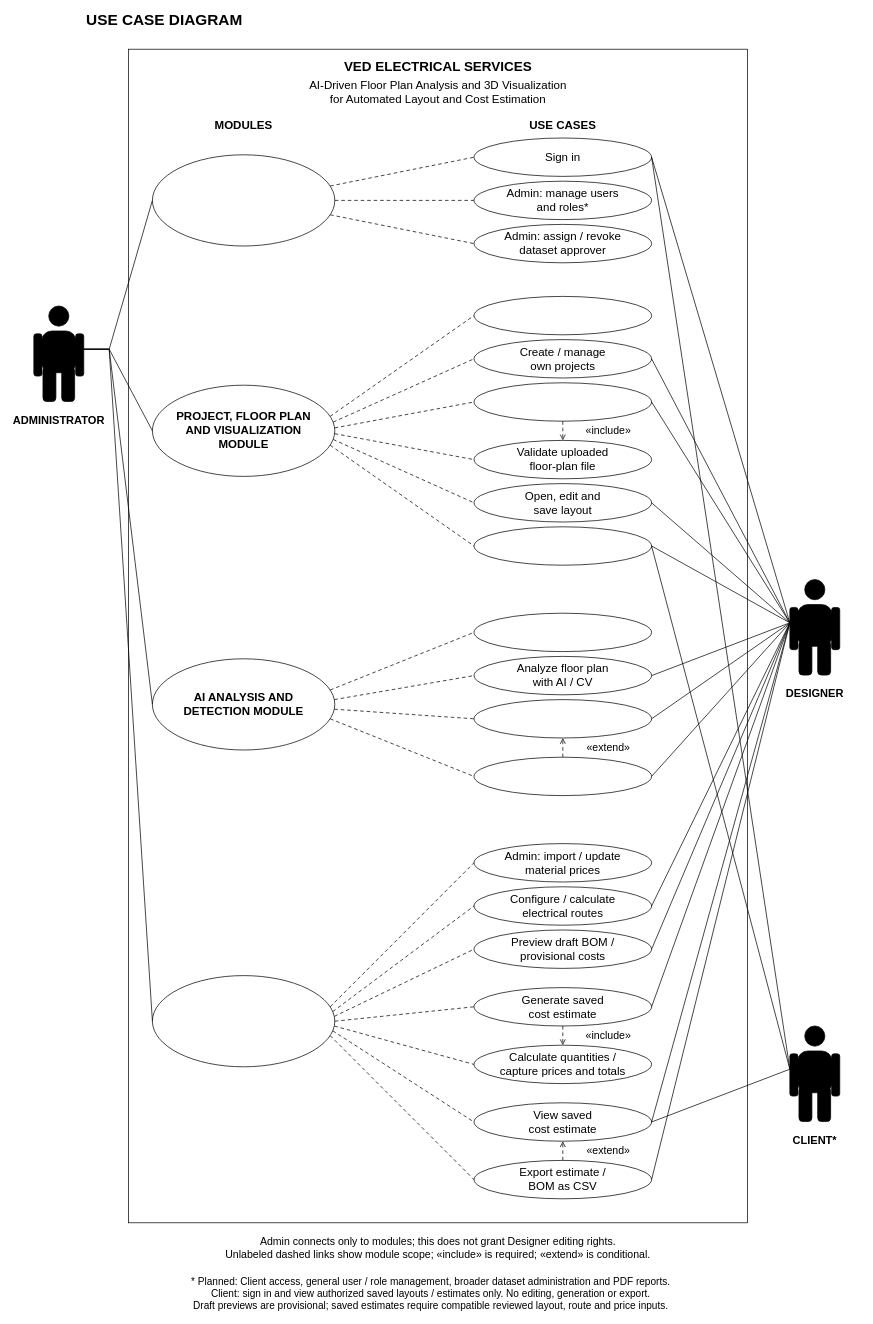
Some shapes in this 873 by 1324 pixel diagram are drawn without their labels. The shapes that lost their labels are listed below. From the top down, each one's centre as x and y in pixels, then its label:
At point 243,200: "USER AND ACCESS MANAGEMENT MODULE".
At point 562,315: "Admin: inspect all project records".
At point 562,401: "Upload floor plan".
At point 562,545: "View 2D / 3D layout".
At point 562,632: "Admin: manage legends and datasets*".
At point 562,718: "Review / confirm AI results".
At point 562,776: "Correct detection results".
At point 243,1021: "ELECTRICAL ROUTING, COST ESTIMATION AND REPORTING MODULE".
